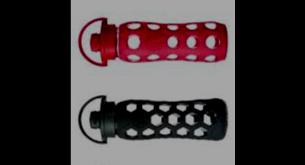Plastic: (76, 90, 230, 144)
